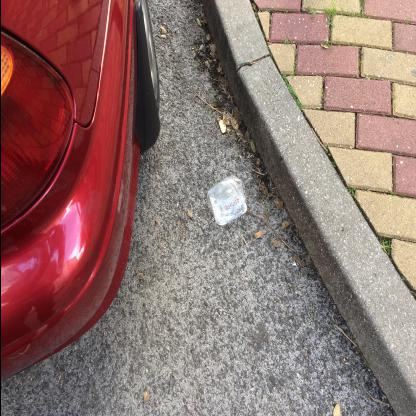plastik: (206, 174, 246, 226)
